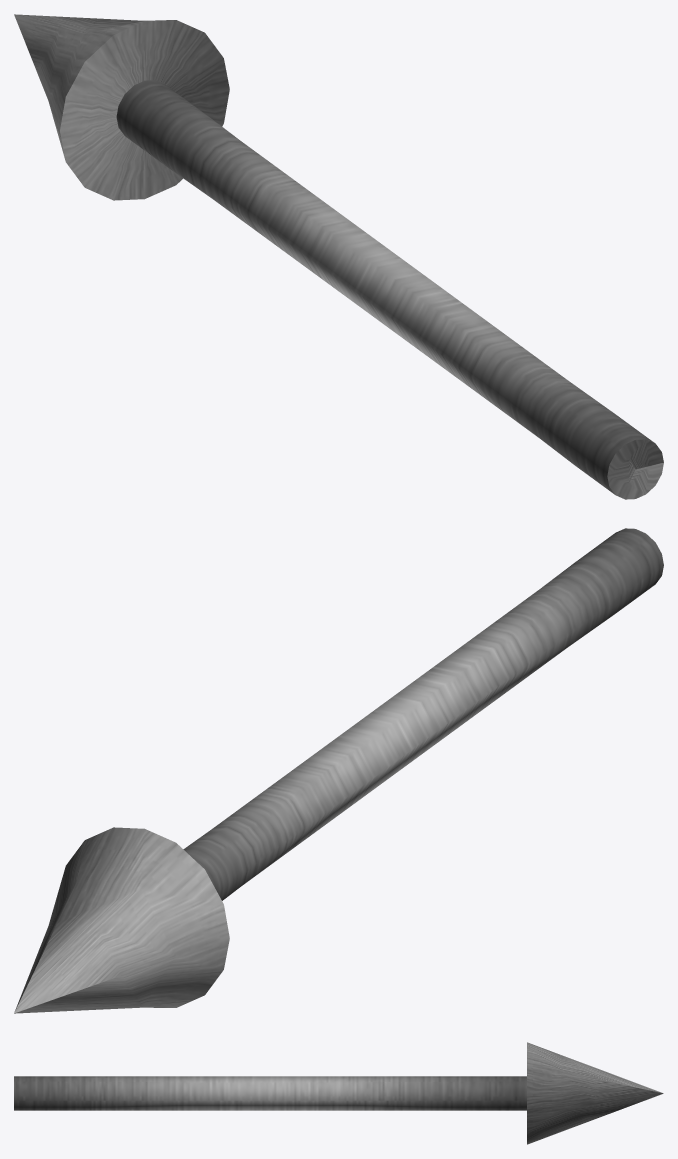
Rendered from pointer.obj.
The picture shows the model from 3 angles, top to bottom: view 1: azimuth 30°, elevation 25°; view 2: azimuth 150°, elevation 25°; view 3: azimuth 270°, elevation 25°; orthographic projection. The views are drawn at different scales.
Parts seen in each view (by area): view 1: Default object_1; view 2: Default object_1; view 3: Default object_1.
Part boxes in pixels (<box>): Default object_1: <box>14,14,663,499</box>; Default object_1: <box>14,528,663,1013</box>; Default object_1: <box>14,1042,663,1144</box>.
Size of the model in its own units: 6 by 6 by 38.
1 material, 1 textured.
